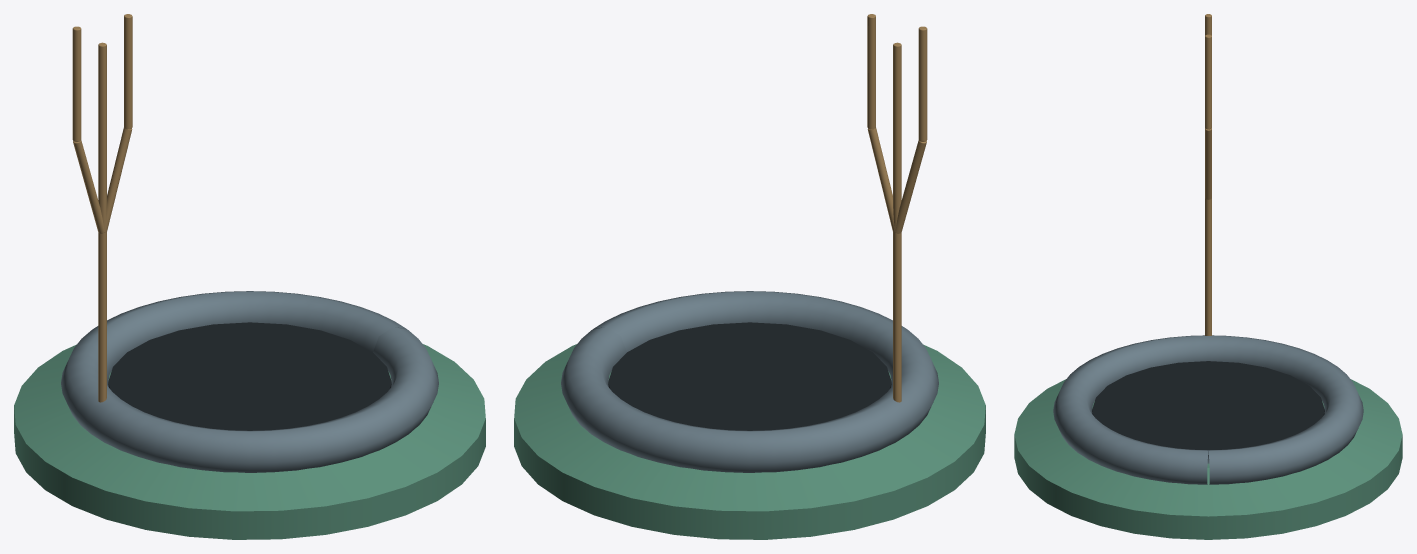
The picture shows the model from 3 angles, left to right: view 1: azimuth 30°, elevation 25°; view 2: azimuth 150°, elevation 25°; view 3: azimuth 270°, elevation 25°; orthographic projection. The views are drawn at different scales.
Parts seen in each view (by area): view 1: Terraced oval hull, Raised open bay rim, Dark open bay, Aerial stem, Aerial fork tine, Aerial fork tine.001, Aerial fork, Aerial fork.001; view 2: Terraced oval hull, Raised open bay rim, Dark open bay, Aerial stem, Aerial fork tine, Aerial fork tine.001, Aerial fork, Aerial fork.001; view 3: Terraced oval hull, Raised open bay rim, Dark open bay, Aerial stem, Aerial fork tine.001, Aerial fork.001.
Boxes of the visible parts, x1=… form: Terraced oval hull: x1=14, y1=344, x2=485, y2=539; Raised open bay rim: x1=61, y1=291, x2=438, y2=472; Dark open bay: x1=108, y1=322, x2=391, y2=430; Aerial stem: x1=98, y1=42, x2=106, y2=402; Aerial fork tine: x1=72, y1=26, x2=81, y2=141; Aerial fork tine.001: x1=124, y1=14, x2=132, y2=129; Aerial fork: x1=73, y1=140, x2=104, y2=233; Aerial fork.001: x1=104, y1=128, x2=132, y2=232; Terraced oval hull: x1=514, y1=344, x2=985, y2=539; Raised open bay rim: x1=561, y1=291, x2=938, y2=472; Dark open bay: x1=608, y1=322, x2=891, y2=430; Aerial stem: x1=893, y1=42, x2=901, y2=402; Aerial fork tine: x1=918, y1=26, x2=927, y2=141; Aerial fork tine.001: x1=867, y1=14, x2=875, y2=129; Aerial fork: x1=895, y1=140, x2=926, y2=233; Aerial fork.001: x1=867, y1=128, x2=895, y2=232; Terraced oval hull: x1=1014, y1=379, x2=1402, y2=539; Raised open bay rim: x1=1053, y1=335, x2=1363, y2=484; Dark open bay: x1=1092, y1=361, x2=1324, y2=450; Aerial stem: x1=1205, y1=198, x2=1211, y2=335; Aerial fork tine.001: x1=1205, y1=34, x2=1211, y2=129; Aerial fork.001: x1=1205, y1=128, x2=1211, y2=199.
Bounding box in the file's own units: 2.4 × 2.65 × 2.4.
